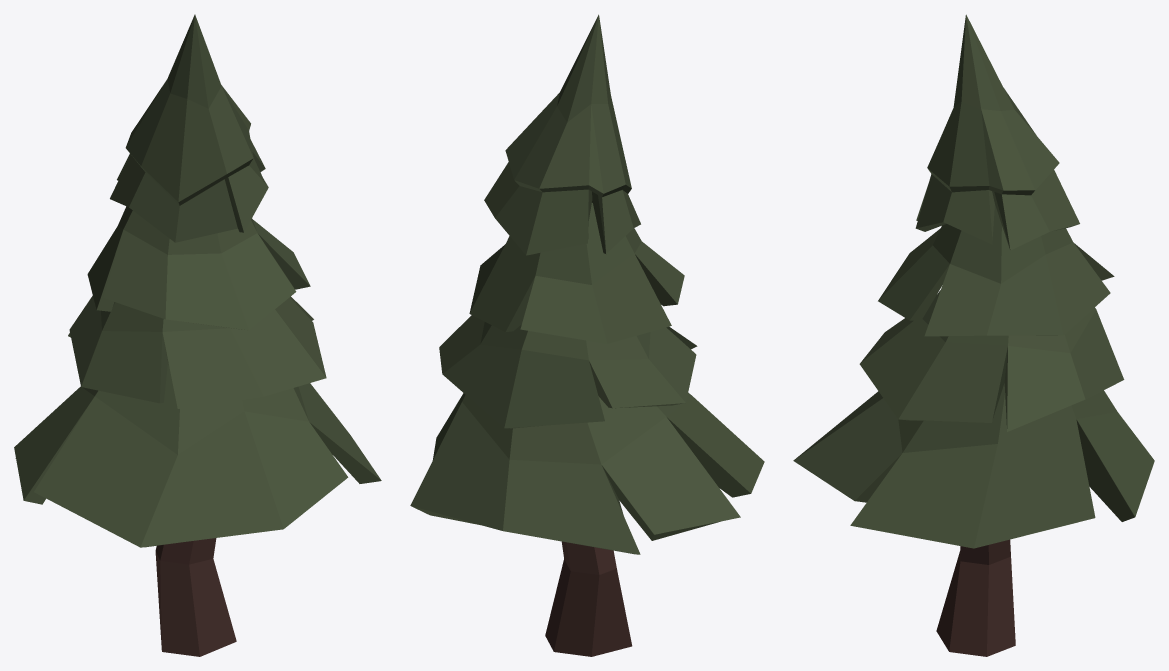
The model's file is tree.glb.
3 renders of one model, left to right at view 1: azimuth 30°, elevation 25°; view 2: azimuth 150°, elevation 25°; view 3: azimuth 270°, elevation 25°, orthographic.
Parts seen in each view (by area): view 1: Circle.047, Circle.046, Cylinder.469; view 2: Circle.047, Circle.046, Cylinder.469; view 3: Circle.047, Circle.046, Cylinder.469.
Part boxes in pixels (left/top/right/bottom): Circle.047: left=14, top=206, right=381, bottom=547; Circle.046: left=110, top=14, right=268, bottom=242; Cylinder.469: left=155, top=538, right=236, bottom=656; Circle.047: left=410, top=201, right=764, bottom=554; Circle.046: left=484, top=14, right=640, bottom=255; Cylinder.469: left=545, top=541, right=632, bottom=656; Circle.047: left=793, top=205, right=1154, bottom=548; Circle.046: left=915, top=14, right=1079, bottom=250; Cylinder.469: left=936, top=539, right=1015, bottom=656.
Size of the model in its own units: 1.64 by 3.1 by 1.64.
